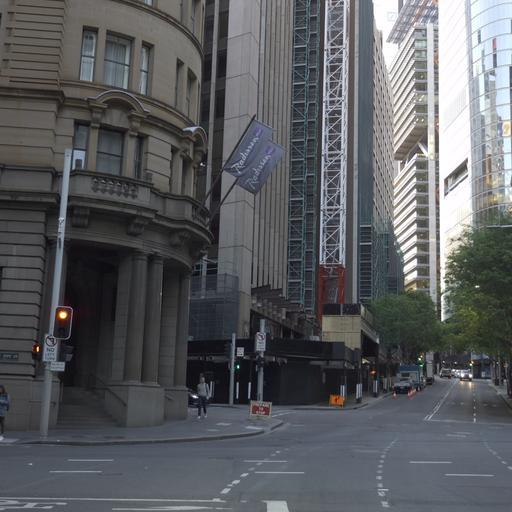Street light: (37, 110, 208, 438), (181, 124, 208, 169), (52, 304, 73, 340), (416, 353, 423, 387), (417, 355, 423, 366)
